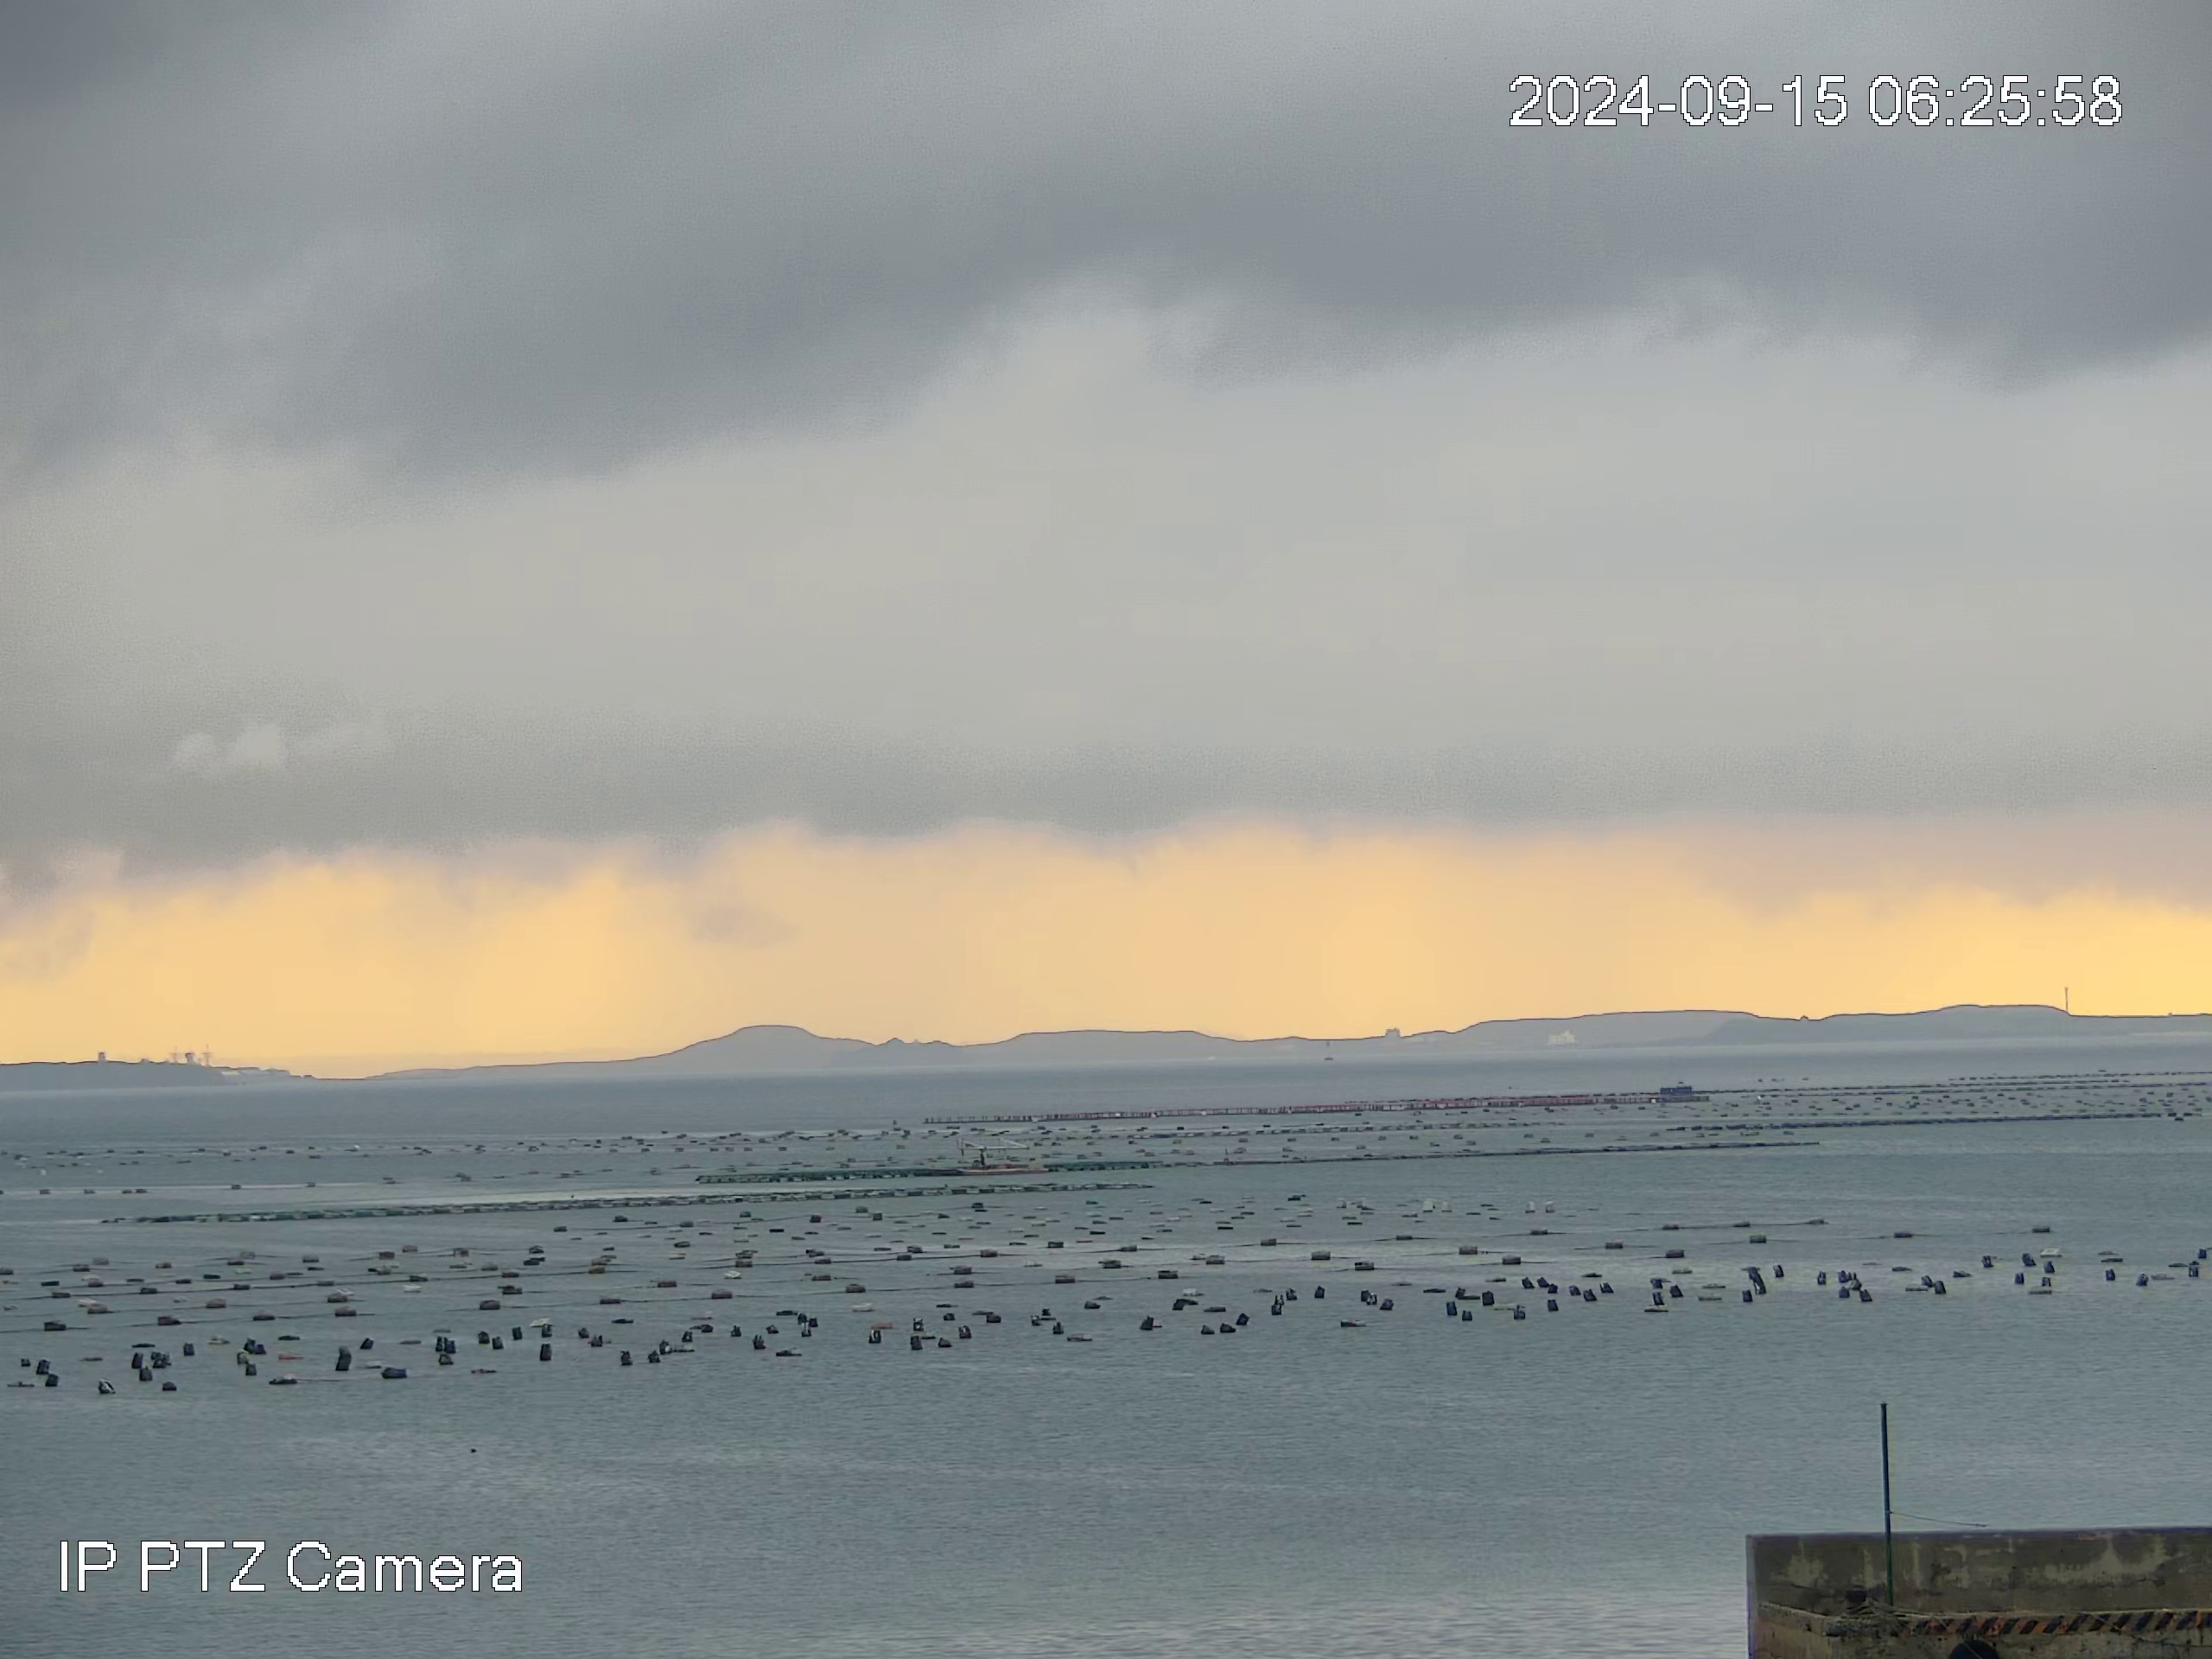boat: (951, 1133, 1052, 1176)
